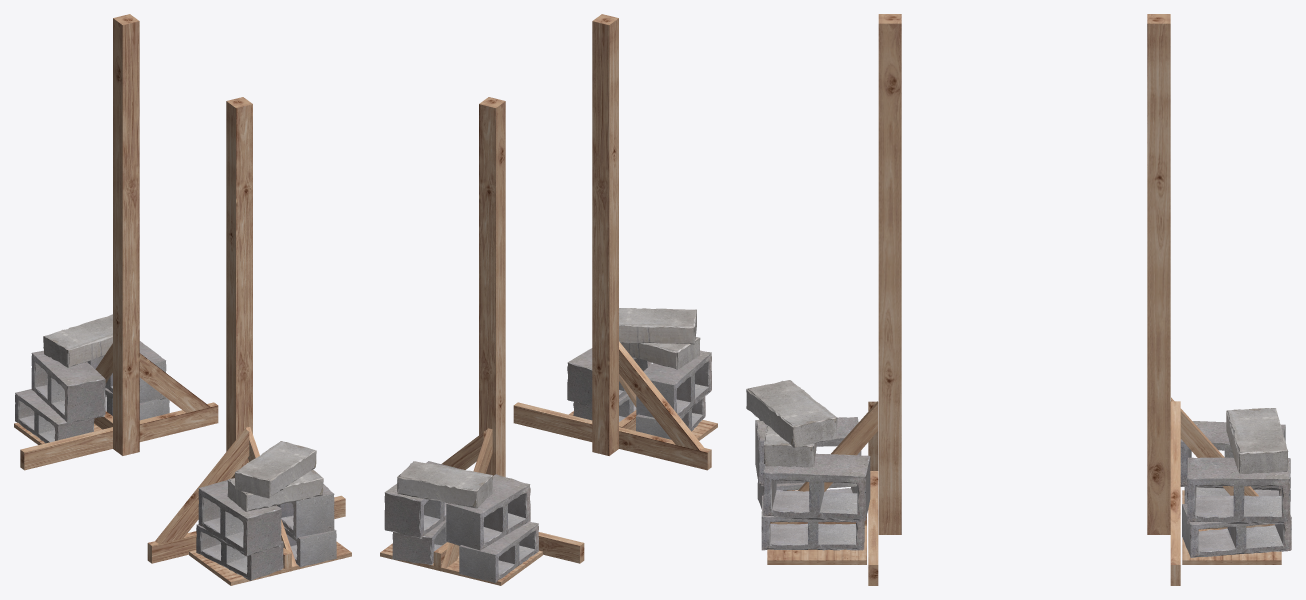
Rendered from DoorFrame.fbx.
3 views of the same model, side by side, from view 1: azimuth 30°, elevation 25°; view 2: azimuth 150°, elevation 25°; view 3: azimuth 270°, elevation 25° (orthographic). The views are drawn at different scales.
Parts seen in each view (by area): view 1: Box010; view 2: Box010; view 3: Box010.
Boxes of the visible parts, x1,y1,x2,y2 form: Box010: (14, 14, 351, 585); Box010: (380, 14, 717, 585); Box010: (746, 14, 1291, 585).
Bounding box in the file's own units: 1.02 × 2.16 × 2.09.
